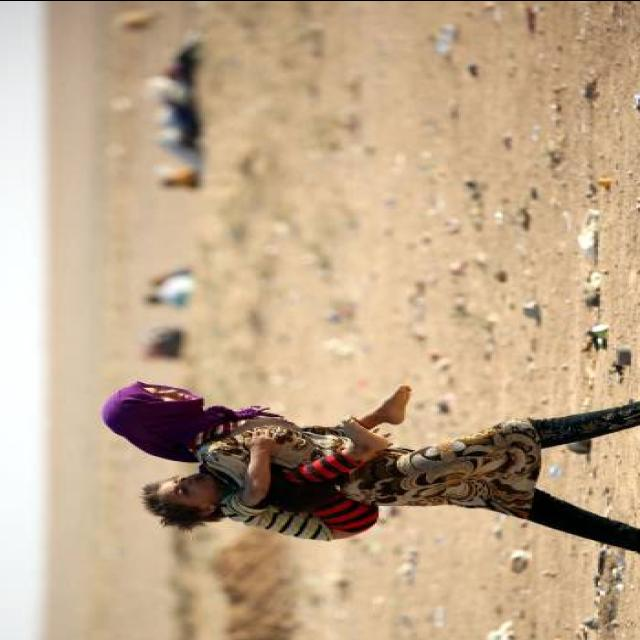civilian: (102, 382, 640, 554)
